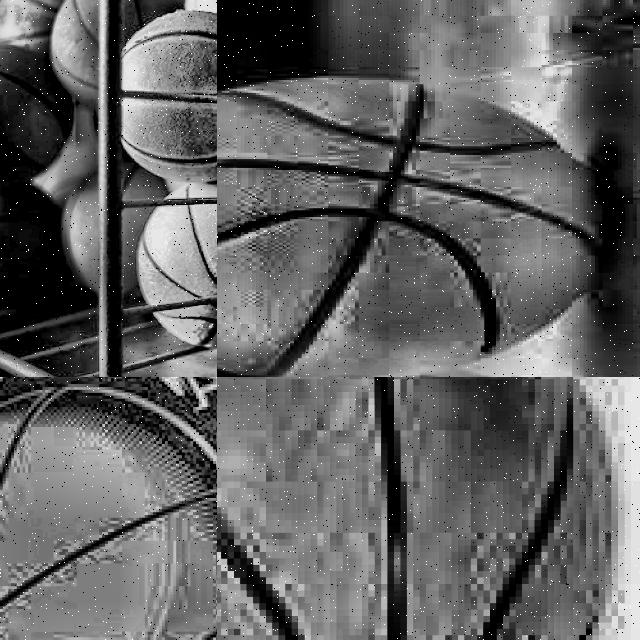Basketball: (217, 75, 601, 377), (217, 377, 615, 640), (0, 380, 217, 640), (0, 43, 72, 185), (122, 8, 217, 93), (122, 97, 217, 181)
